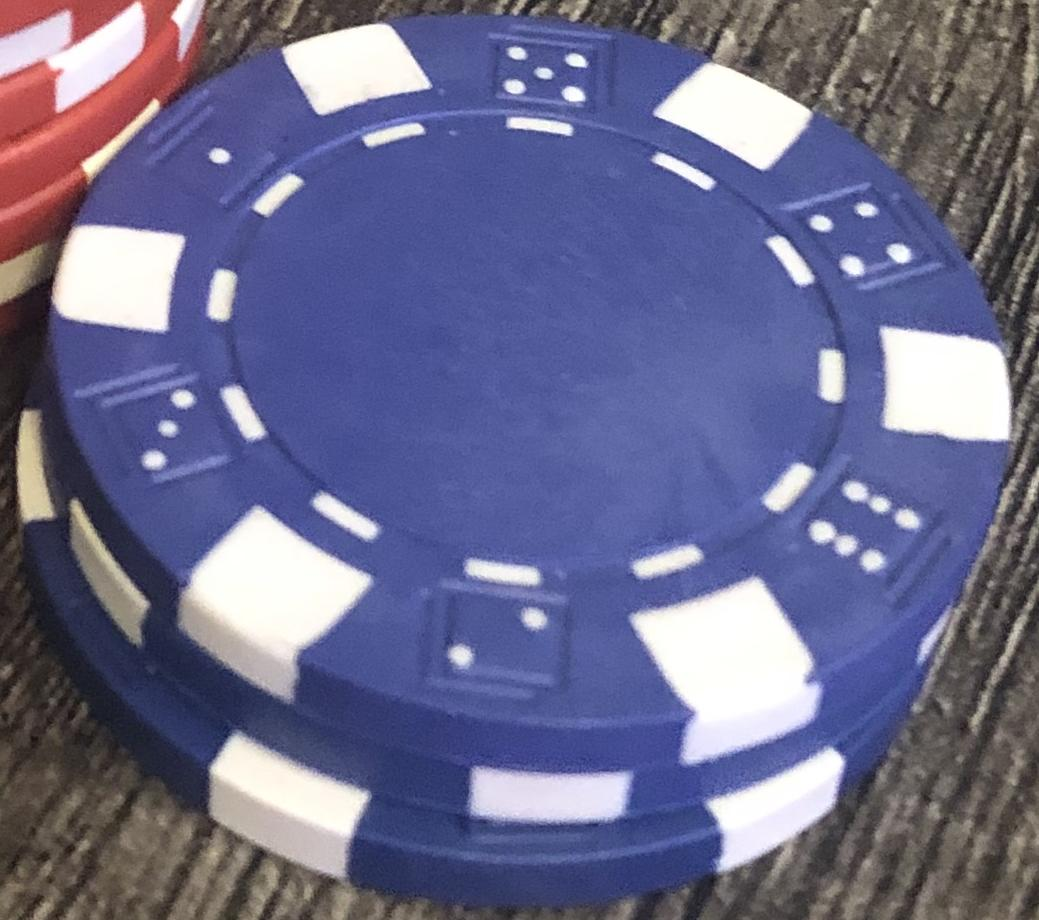Chip: (1, 2, 1039, 920)
